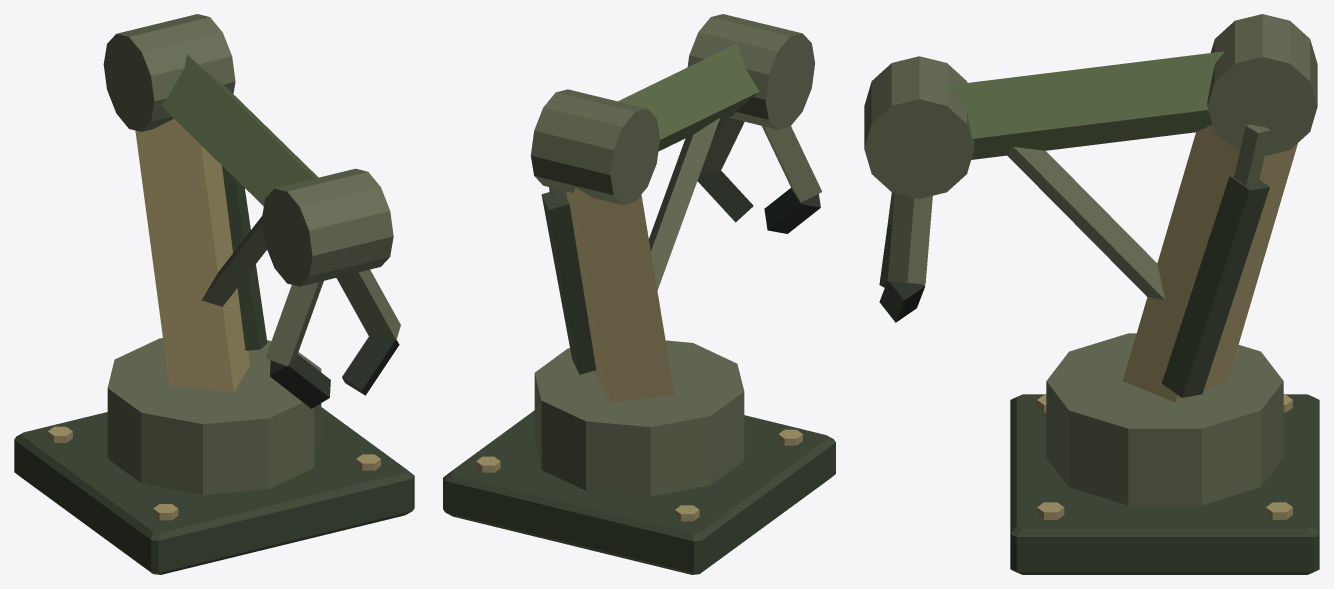
The model's file is salvage_arm.obj.
3 renders of one model, left to right at view 1: azimuth 30°, elevation 25°; view 2: azimuth 150°, elevation 25°; view 3: azimuth 270°, elevation 25°, orthographic. The views are drawn at different scales.
Visible parts, largest first — view 1: BASE.004; view 2: BASE.004; view 3: BASE.004.
Part boxes in pixels (x1,y1,x2,y2): BASE.004: (14,14,414,574); BASE.004: (443,14,835,574); BASE.004: (864,14,1319,574).
Size of the model in its own units: 0.78 by 1.23 by 1.07.
1 material, 1 textured.
